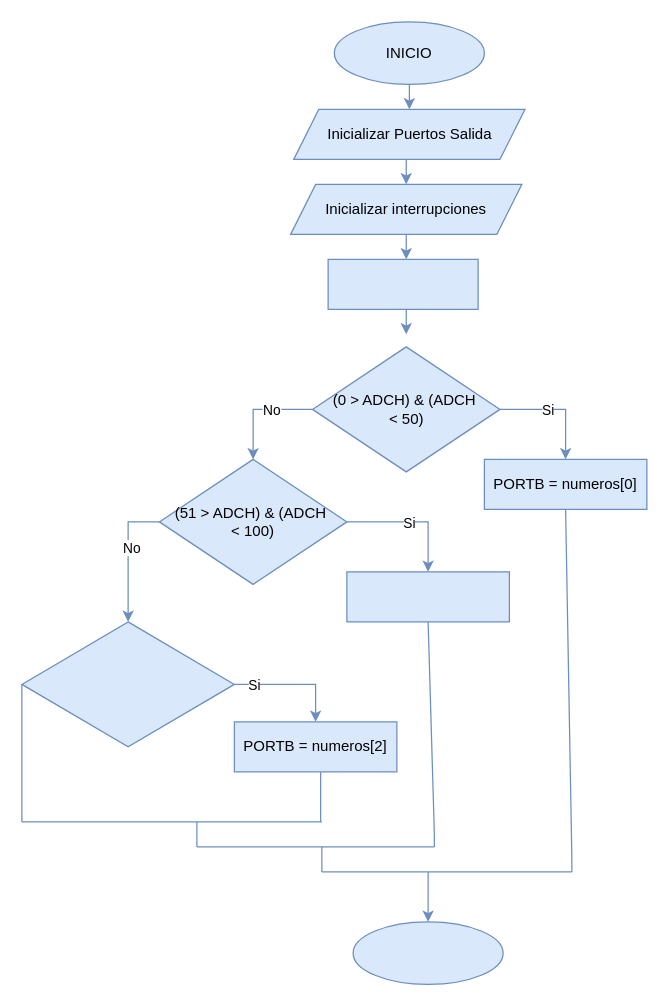
The diagram is 669 pixels wide and 1006 high, and some of its shapes have lost their labels. The box of each missing label's shape, as (x1, y1, x2, y2) in pixels:
(101 > ADCH) & (ADCH < 255): (21, 621, 234, 747)
Conversión ADC: (327, 258, 478, 309)
FIN: (352, 921, 503, 984)
PORTB = numeros[1]: (346, 571, 509, 622)
